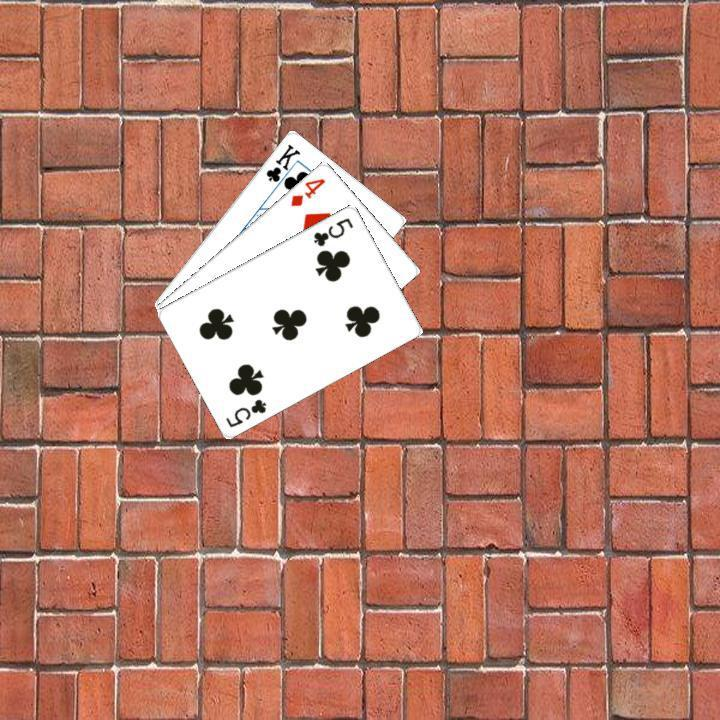4: (286, 173, 327, 208)
5: (221, 394, 268, 429), (309, 213, 355, 248)
K: (262, 139, 303, 192)
